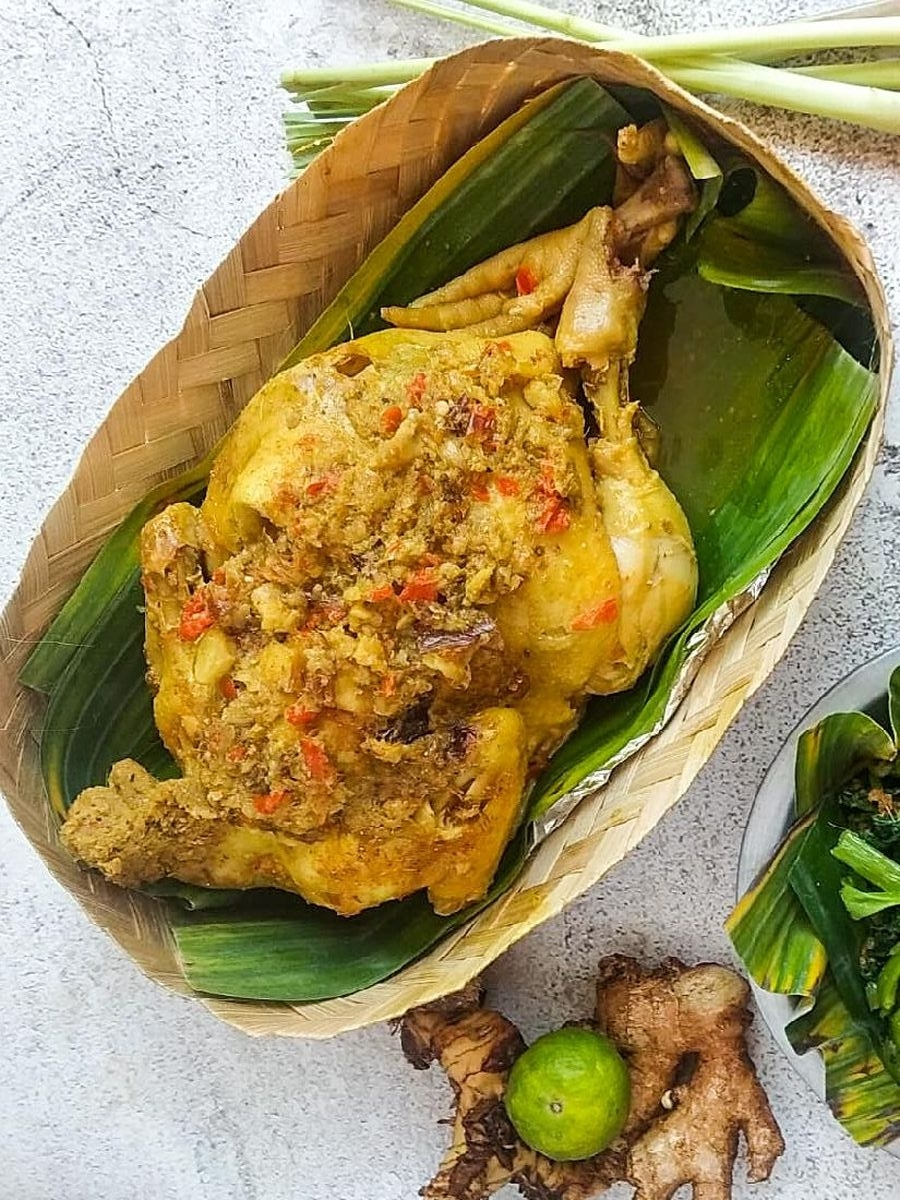ayam_betutu: (65, 122, 697, 909)
